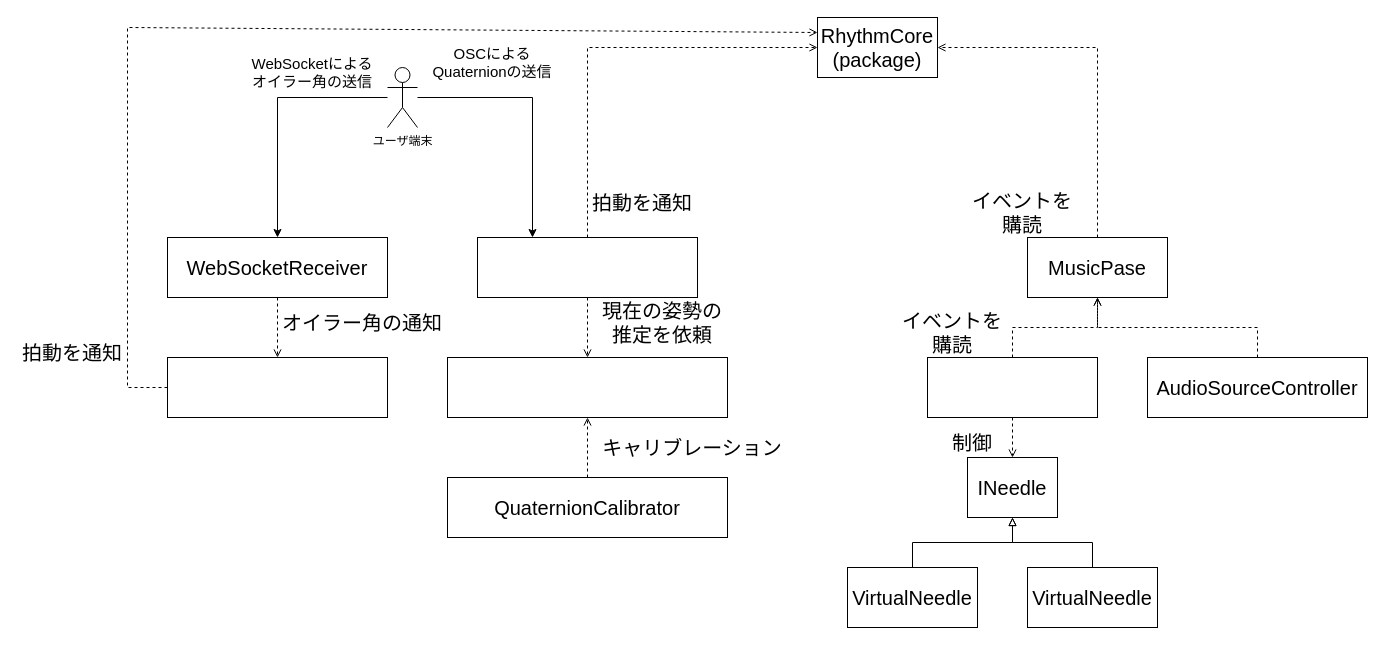
The diagram is 1385 pixels wide and 645 high, and some of its shapes have lost their labels. Here are the shapes that lost their labels. From the top down, the box of each, then its label:
(476, 236, 698, 298): OSCQuaternionBeater
(166, 356, 388, 418): WebSocketEulerBeater
(446, 356, 728, 418): QuaternionPostureEstimator
(926, 356, 1098, 418): NeedleController
